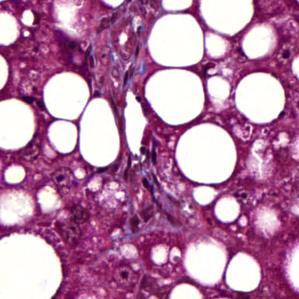steatosis: (175, 124, 237, 185), (235, 73, 292, 122)
